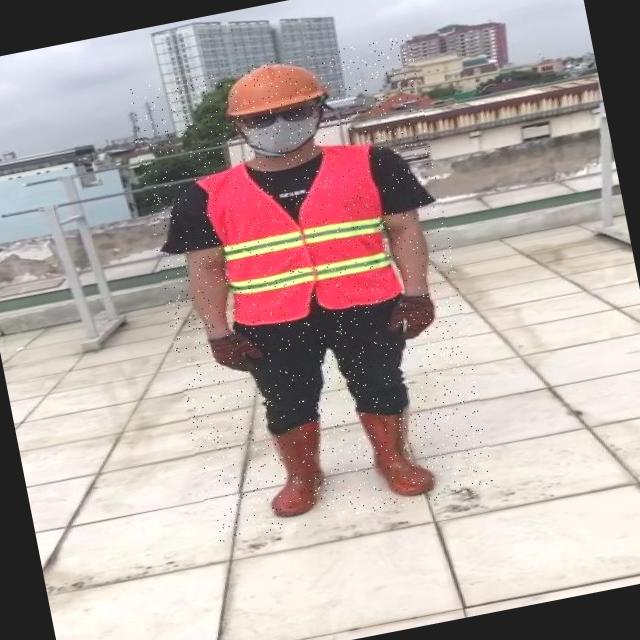boots: (356, 400, 442, 506), (258, 419, 334, 520)
helmet: (216, 53, 333, 122)
vest: (194, 140, 405, 336)
